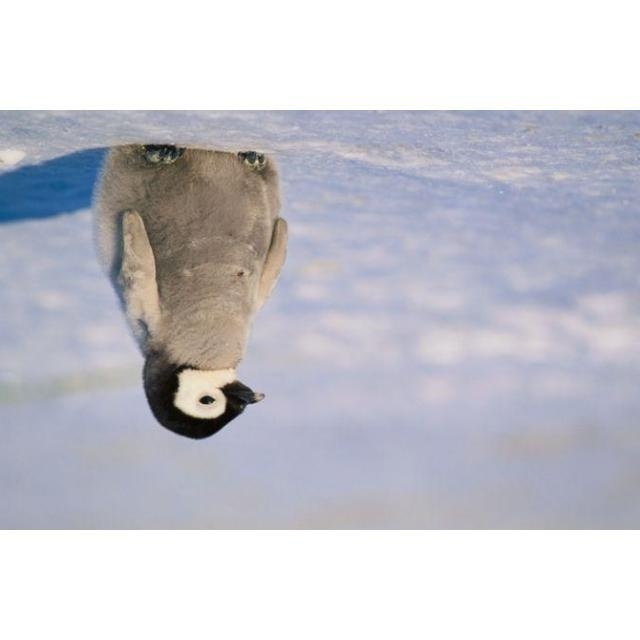penguin: (98, 142, 291, 438)
